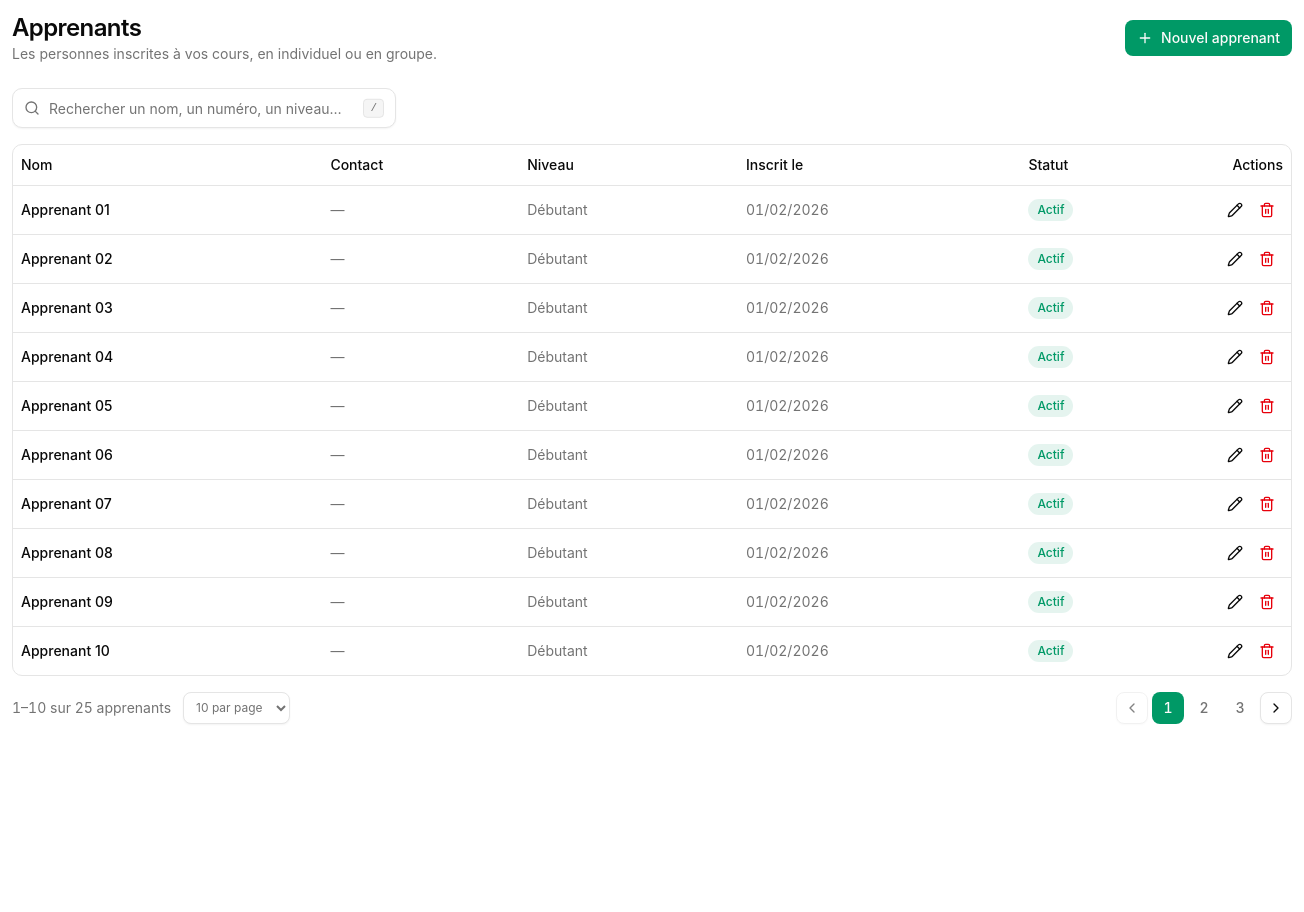
Test case: ApprenantsPage › recherche et pagination › revient à la première page quand la recherche change
Click the button named "Page 3". click: (1240, 708)
box: [1224,692,1256,724]
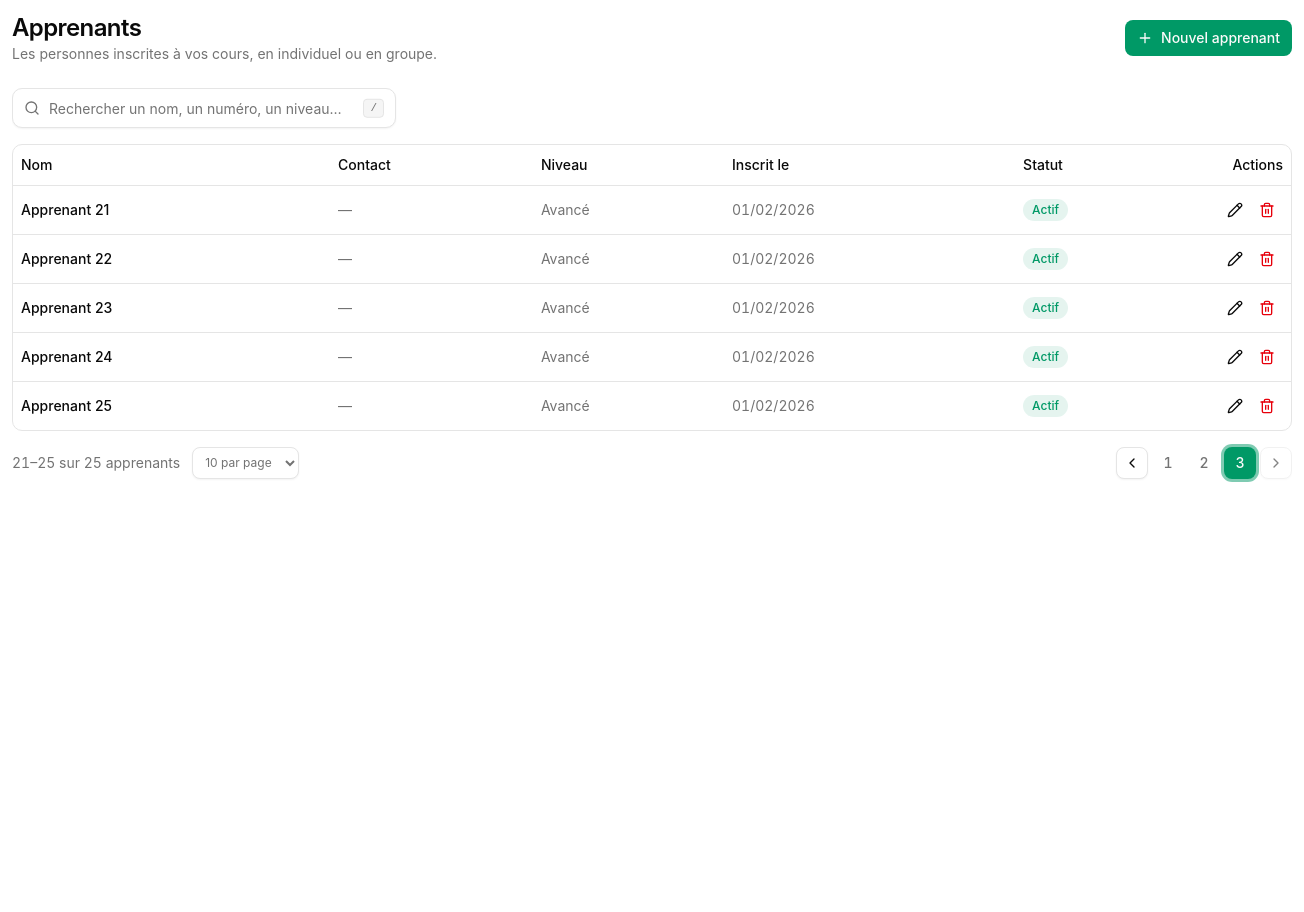
Result: the text "21–25 sur 25 apprenants" is shown at [12,452,180,472]
Type "debutant" into the search field. click: (204, 108)
box: [12,88,396,128]
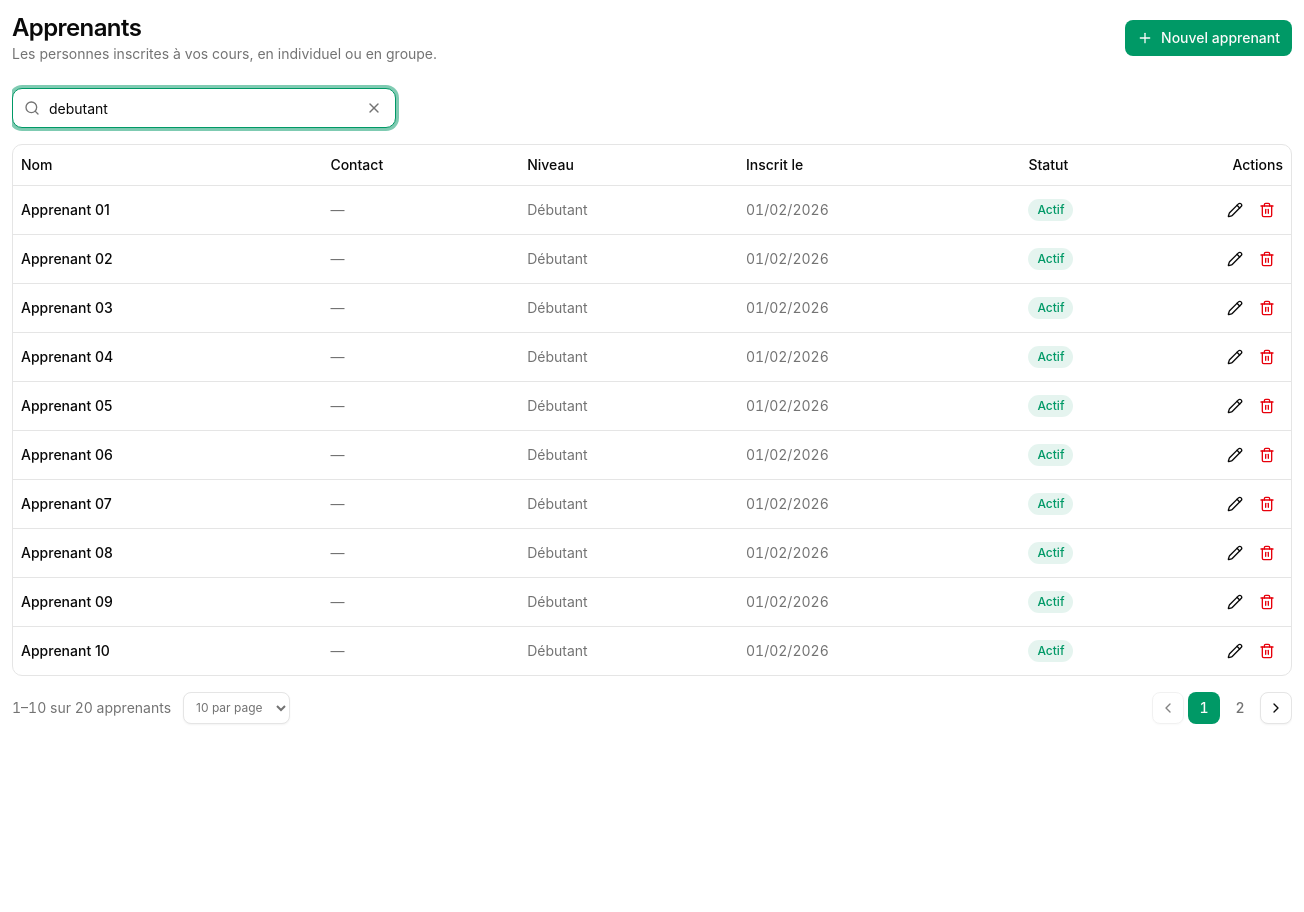
Result: the text "1–10 sur 20 apprenants" is shown at [12,698,171,718]
Result: the number of buttons "Apprenant 01" is 2
